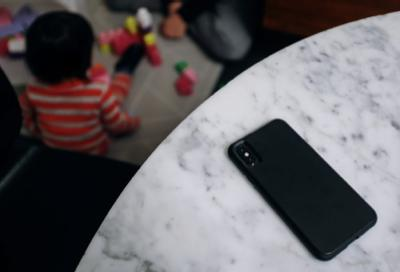Mobile Phone: (226, 116, 378, 261)
